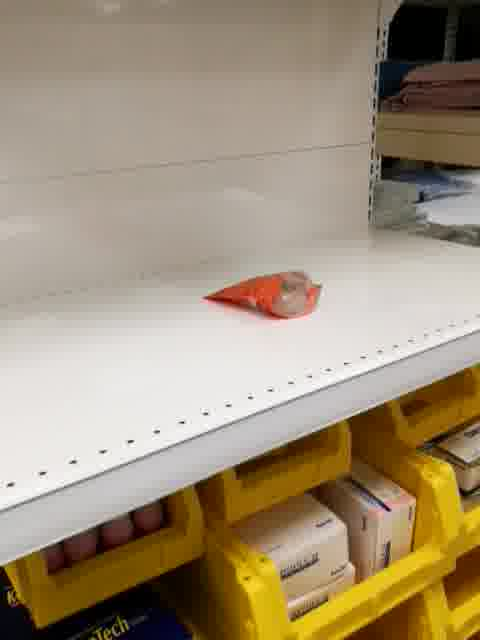whitechia: (201, 266, 323, 321)
